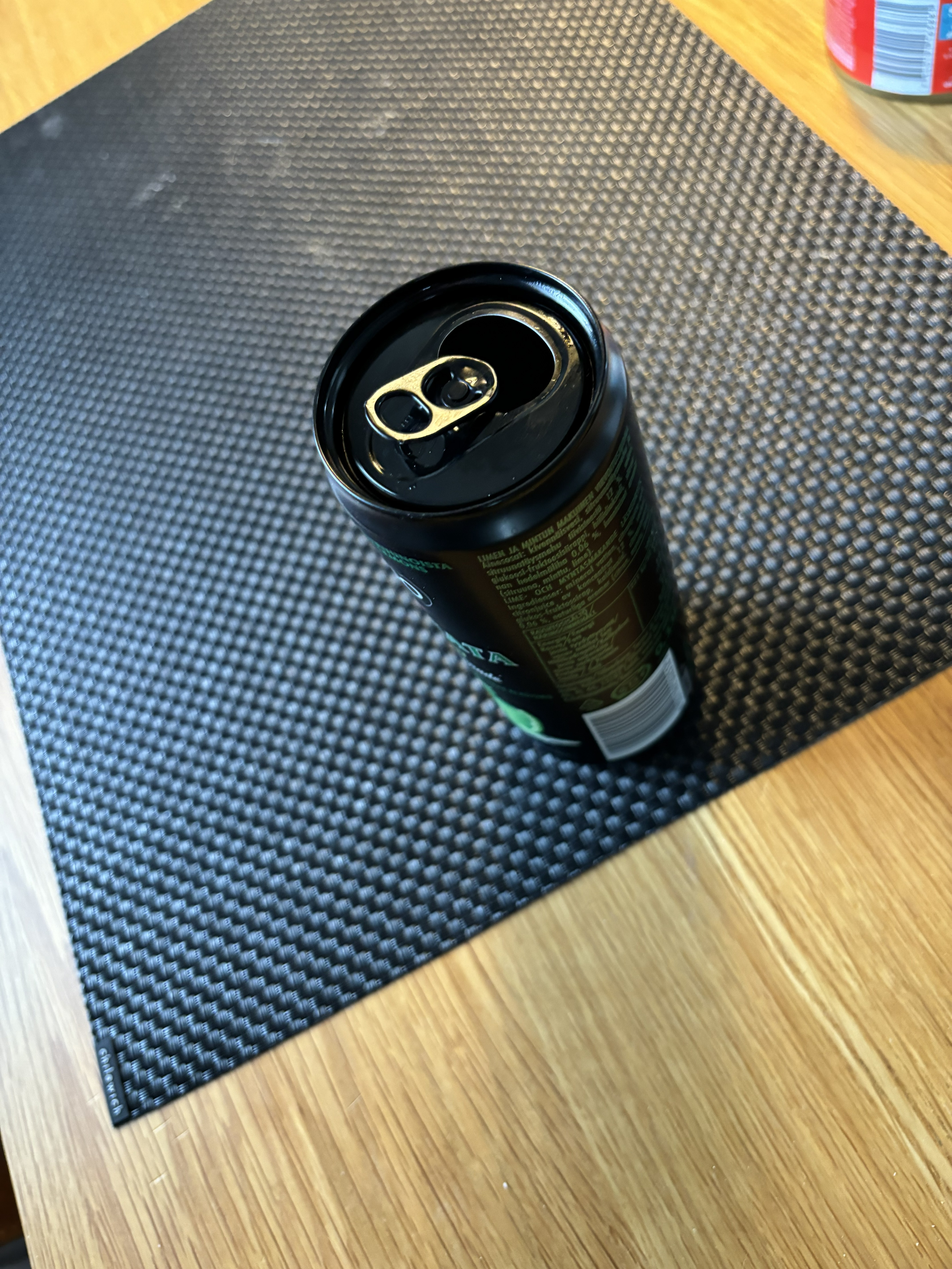Pantburk: (302, 239, 720, 768)
